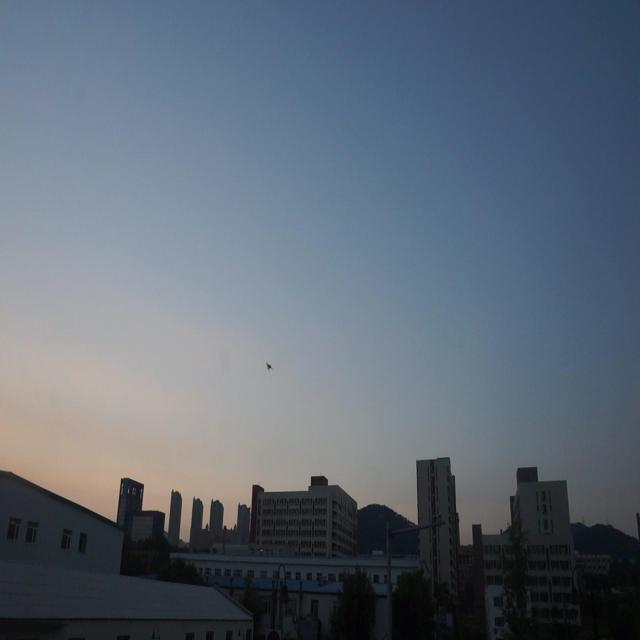drone: (265, 357, 274, 374)
